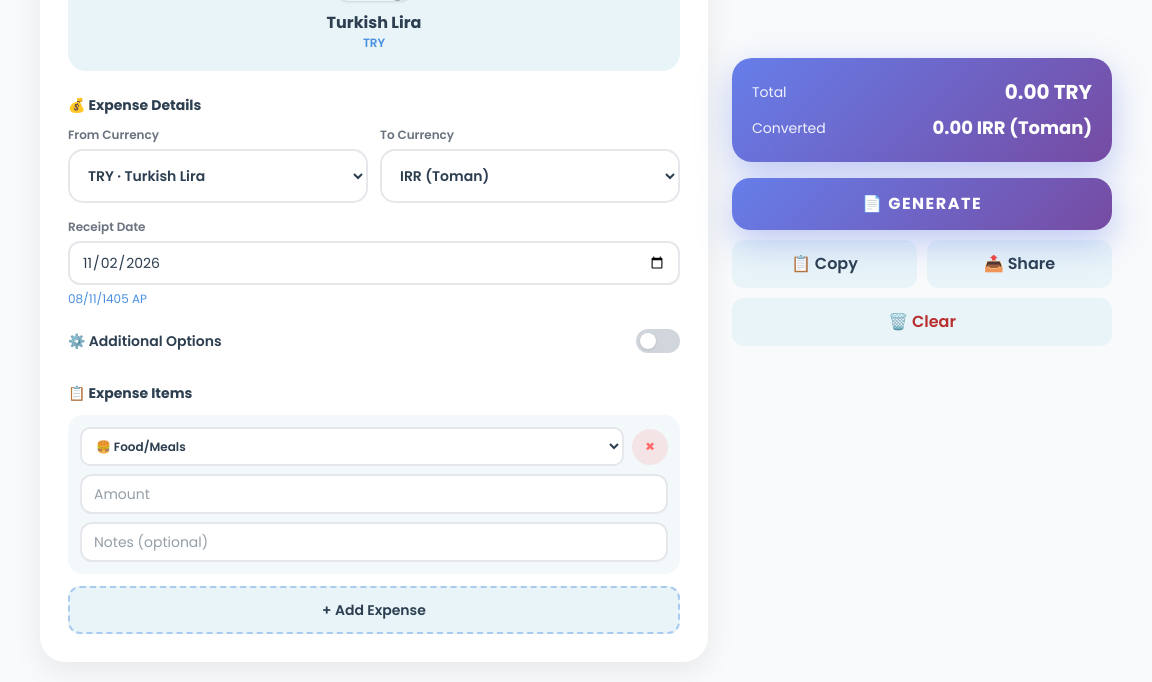
Test: Receipt — the form (characterization for the WS-4 split) › Add Expense appends a second row
(page scrolled)
Click the button "+ Add Expense": (374, 610) [68,586,680,634]
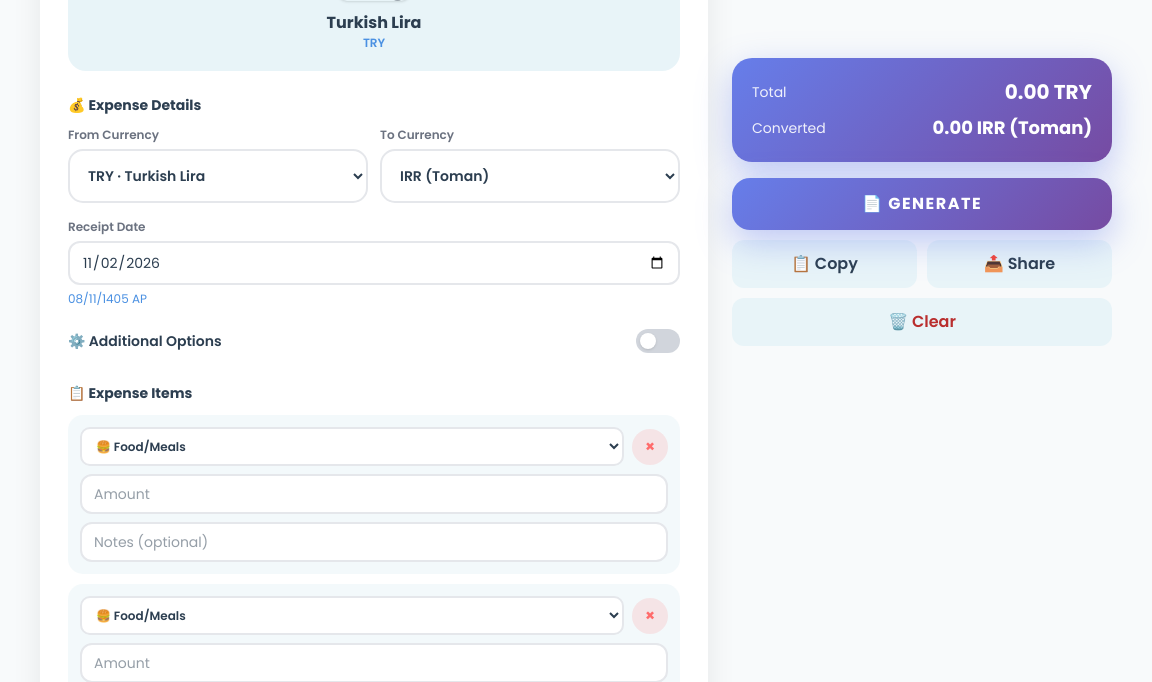
Expected: the field named "Amount 2" is shown, [80,643,668,681]
